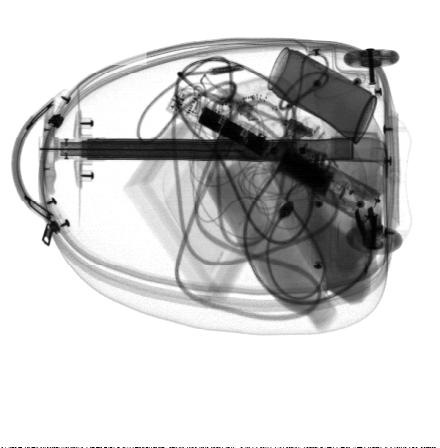Baton: (165, 86, 382, 226)
